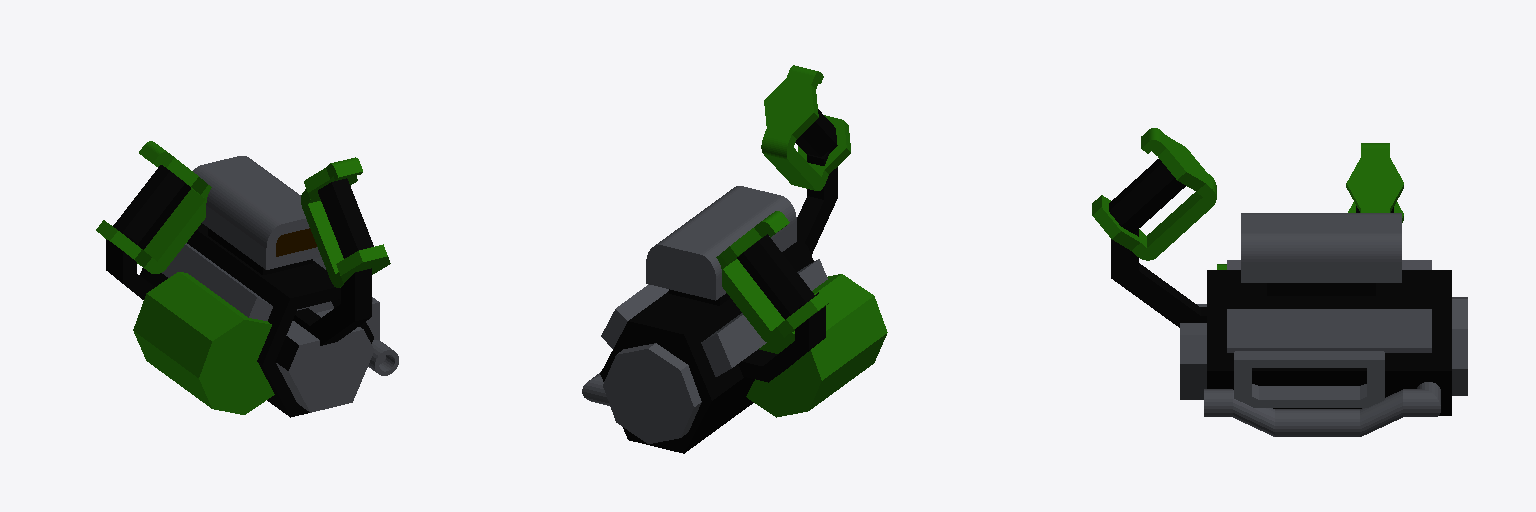
The model's file is minigun_body.obj.
3 views of the same model, side by side, from view 1: azimuth 30°, elevation 25°; view 2: azimuth 150°, elevation 25°; view 3: azimuth 270°, elevation 25° (orthographic).
Size of the model in its own units: 0.9227 by 1.13 by 1.42.